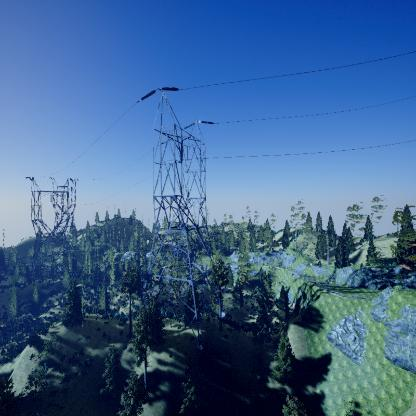tower: (130, 85, 224, 334), (24, 169, 80, 291)
